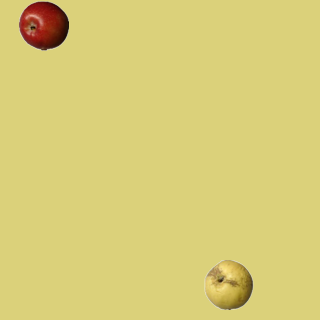Apple Braeburn: (18, 0, 68, 50)
Apple Golden 1: (203, 259, 253, 309)
